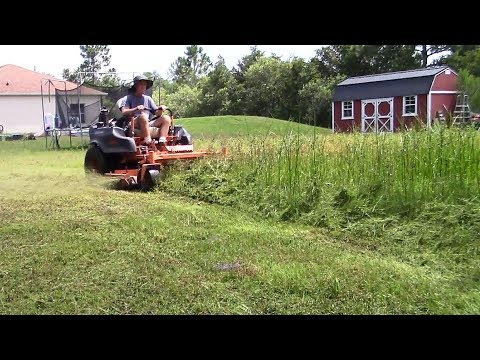grass: (1, 187, 480, 314)
